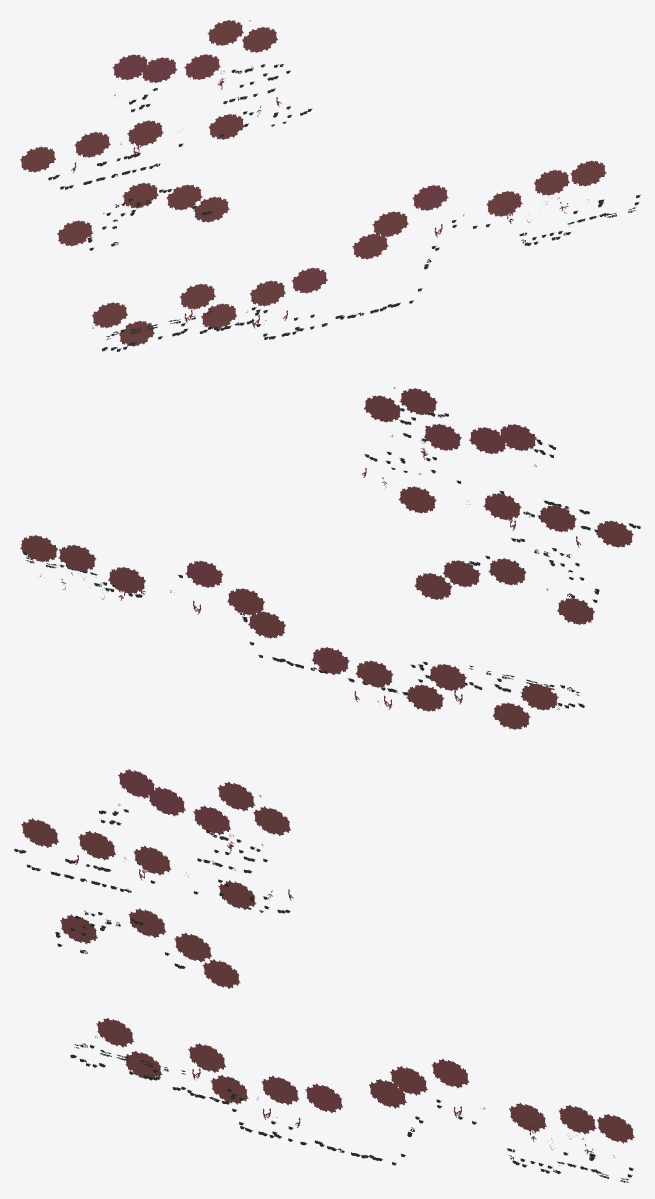
File: nightmare02_bg.glb
3 views of the same model, one above another, from view 1: azimuth 30°, elevation 25°; view 2: azimuth 150°, elevation 25°; view 3: azimuth 330°, elevation 25° (orthographic). The views are drawn at different scales.
Parts seen in each view (by area): view 1: nightmare02_bg; view 2: nightmare02_bg; view 3: nightmare02_bg.
Part boxes in pixels (box(x1,y1,x2,y2)): nightmare02_bg: box(20, 20, 640, 351); nightmare02_bg: box(20, 387, 640, 729); nightmare02_bg: box(14, 769, 634, 1182).
Bounding box in the file's own units: 5988 × 2960 × 298.
10 materials, 10 textured.
